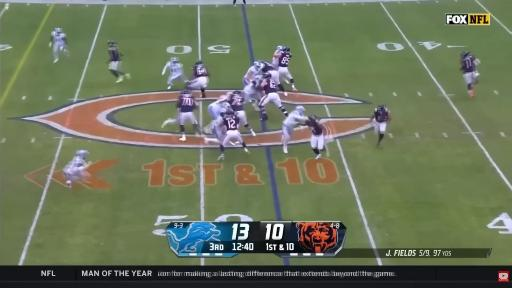Helmet: (79, 150, 89, 158), (107, 39, 117, 47), (296, 105, 306, 113), (182, 90, 193, 97), (461, 51, 470, 59), (309, 114, 317, 123), (282, 46, 291, 53), (54, 28, 62, 35), (264, 72, 272, 79), (377, 103, 383, 111), (255, 62, 261, 69), (226, 112, 235, 116), (172, 58, 178, 63), (234, 91, 240, 96), (197, 60, 201, 64)
Jersey: (63, 156, 85, 174), (283, 111, 307, 126), (177, 94, 195, 112), (306, 118, 323, 135), (373, 107, 390, 123), (228, 93, 243, 111), (223, 114, 239, 130), (461, 55, 475, 73), (164, 62, 183, 75), (244, 66, 261, 78), (264, 79, 277, 94), (193, 65, 208, 78), (279, 52, 291, 67), (252, 75, 263, 91), (109, 47, 121, 61), (51, 32, 66, 43), (262, 62, 275, 72)
Player: (163, 90, 201, 141), (218, 109, 249, 161), (259, 73, 288, 120), (227, 90, 255, 136), (282, 106, 307, 153), (63, 150, 91, 187), (204, 96, 229, 137), (259, 61, 287, 96), (275, 47, 297, 91), (107, 41, 130, 82), (243, 62, 262, 110), (306, 116, 326, 159), (461, 52, 480, 97), (371, 104, 391, 146), (162, 58, 187, 89), (188, 61, 209, 97), (243, 75, 263, 110), (49, 28, 69, 62), (271, 45, 284, 69)
